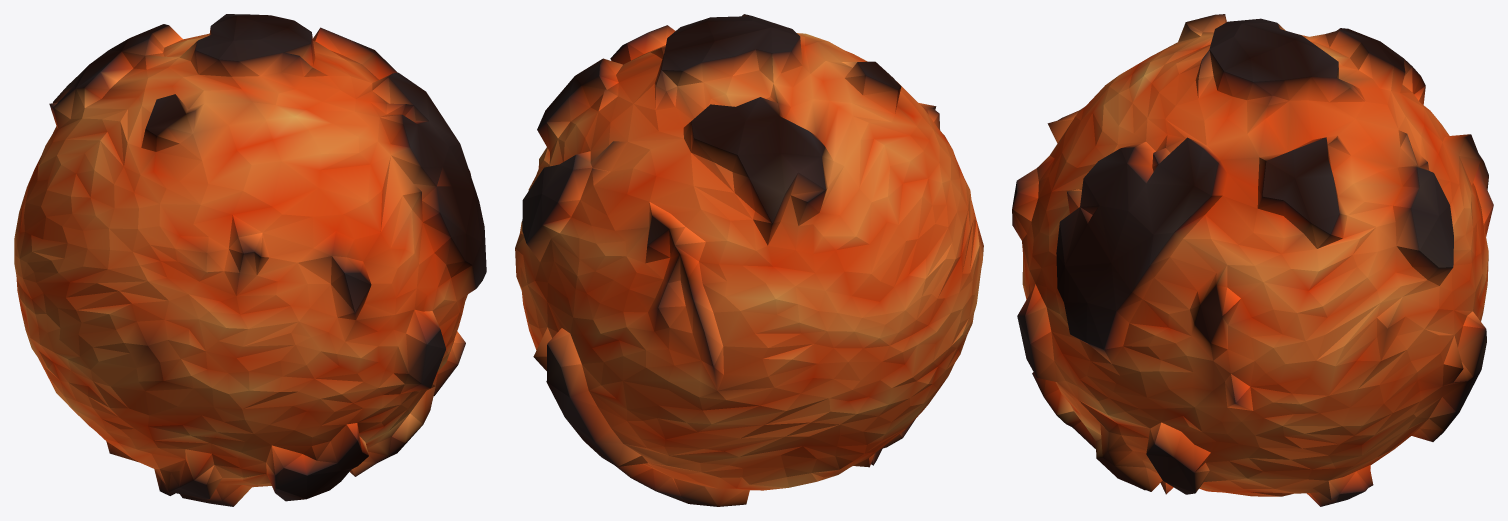
File: barren_21.fbx
3 renders of one model, left to right at view 1: azimuth 30°, elevation 25°; view 2: azimuth 150°, elevation 25°; view 3: azimuth 270°, elevation 25°, orthographic. The views are drawn at different scales.
Visible parts, largest first — view 1: filecache1; view 2: filecache1; view 3: filecache1.
Part boxes in pixels (x1,y1,x2,y2): filecache1: (14, 14, 486, 506); filecache1: (515, 14, 983, 506); filecache1: (1012, 14, 1493, 506).
Bounding box in the file's own units: 2.08 × 2.18 × 2.09.
